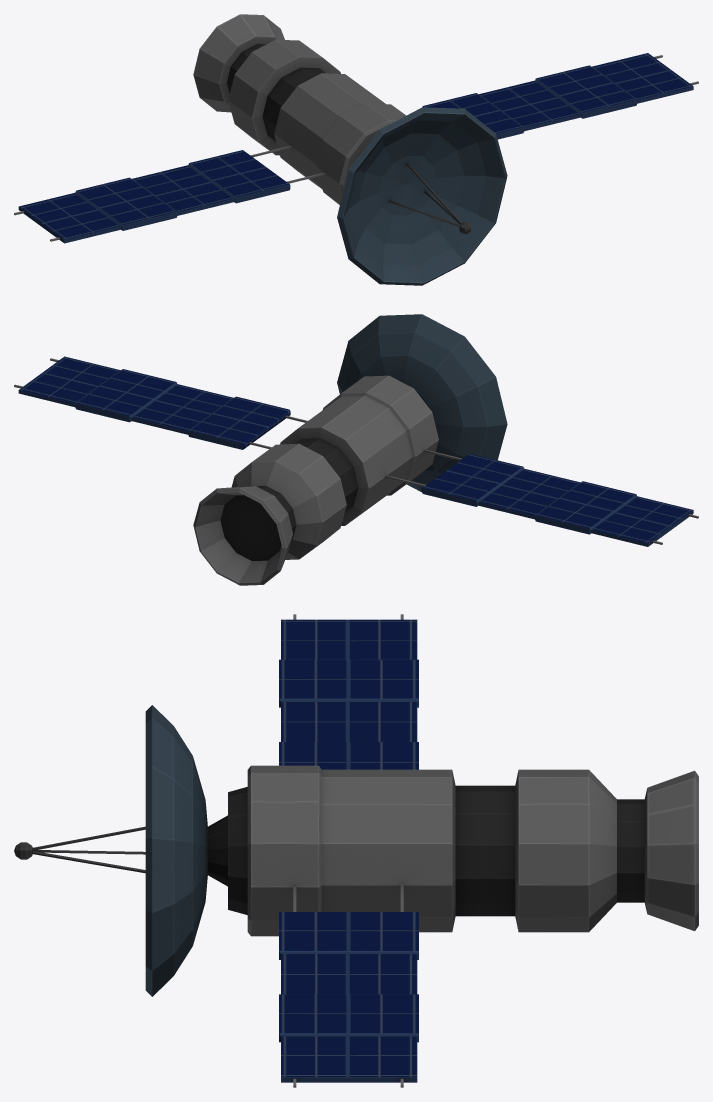
The model's file is satellite-1.glb.
3 renders of one model, top to bottom at view 1: azimuth 30°, elevation 25°; view 2: azimuth 150°, elevation 25°; view 3: azimuth 270°, elevation 25°, orthographic. The views are drawn at different scales.
Bounding box in the file's own units: 41.03 × 10.8 × 25.2.
Materials: 1 (1 with a texture image).
